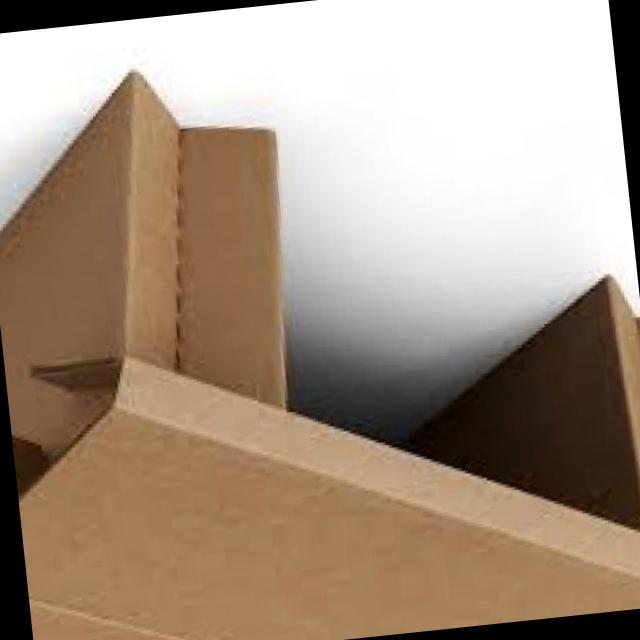cardboard paper: (0, 75, 640, 640)
